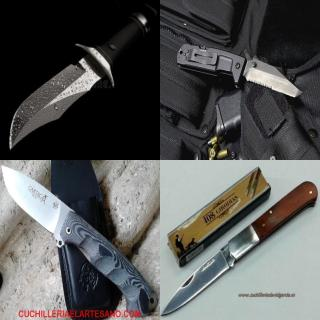knife: (162, 184, 318, 320), (9, 16, 116, 152), (0, 163, 71, 236), (240, 54, 307, 100)
